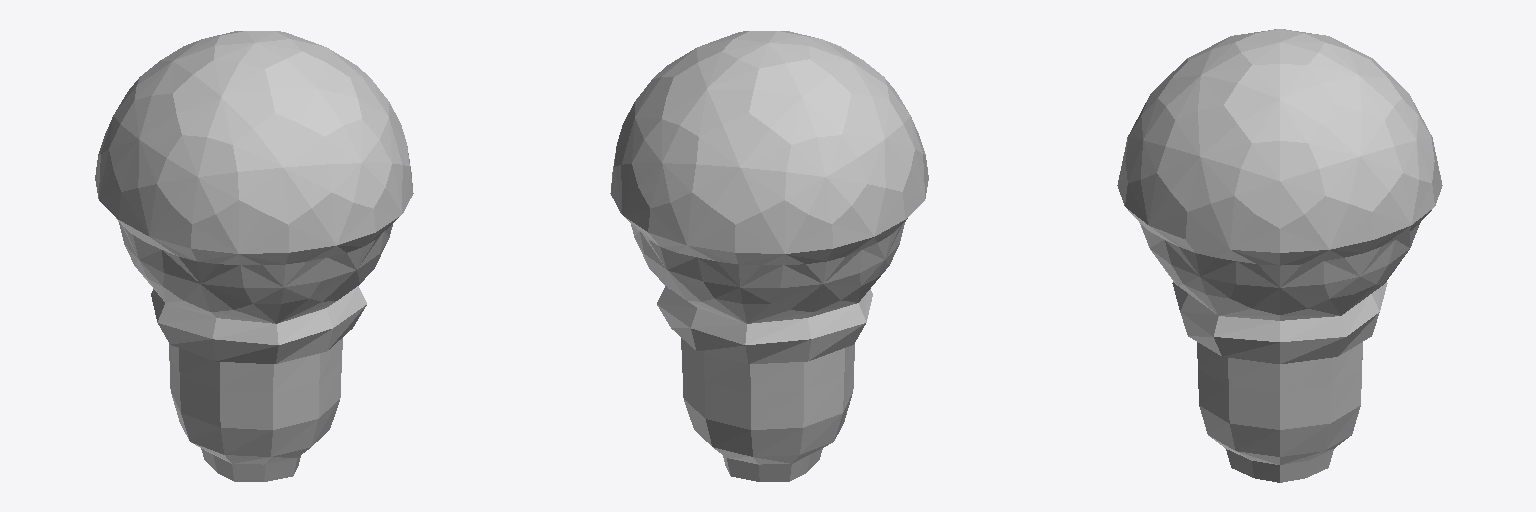
Rendered from lightbulb.obj.
The picture shows the model from 3 angles: view 1: azimuth 30°, elevation 25°; view 2: azimuth 150°, elevation 25°; view 3: azimuth 270°, elevation 25°; orthographic projection.
Visible parts, largest first — view 1: Icosphere; view 2: Icosphere; view 3: Icosphere.
Boxes of the visible parts, x1=… form: Icosphere: x1=95, y1=31, x2=413, y2=481; Icosphere: x1=610, y1=31, x2=928, y2=481; Icosphere: x1=1117, y1=29, x2=1442, y2=482.
Bounding box in the file's own units: 0.1048 × 0.1553 × 0.1073.